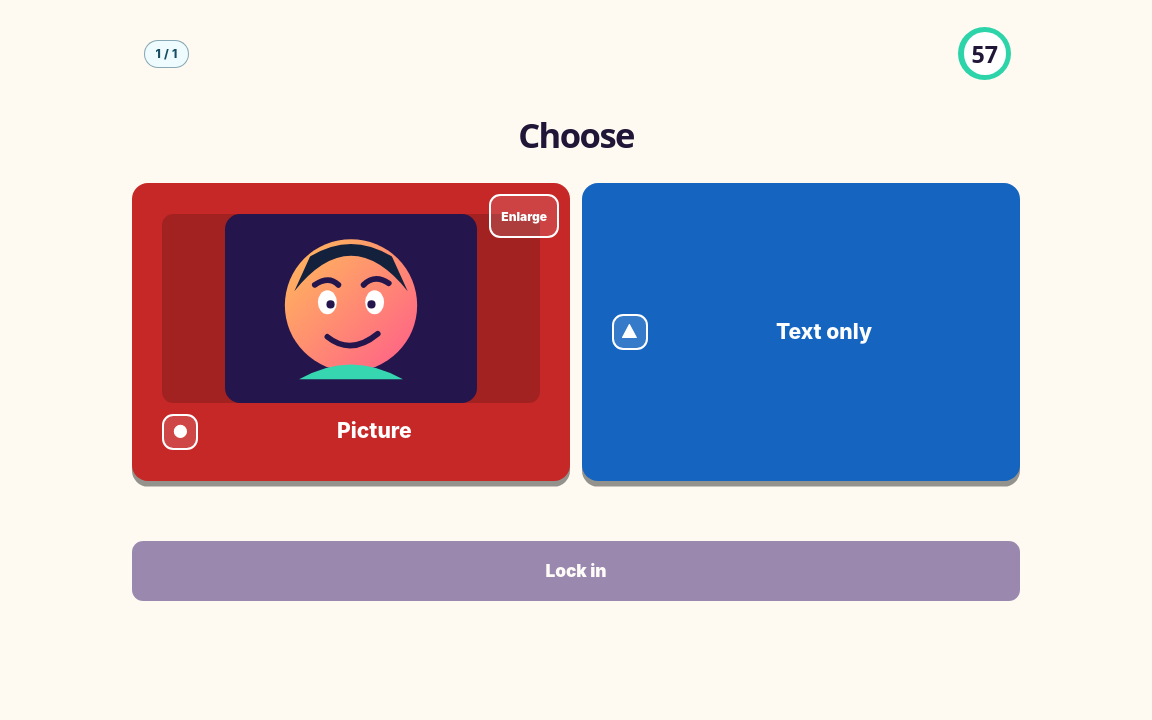
Scenario: PlayerQuestion image choices › opens enlargement without selecting the answer and closes with Escape
The width and height of the screenshot is (1152, 720).
Click the button "Enlarge" at {"x": 524, "y": 216}, box [489,194,559,238]
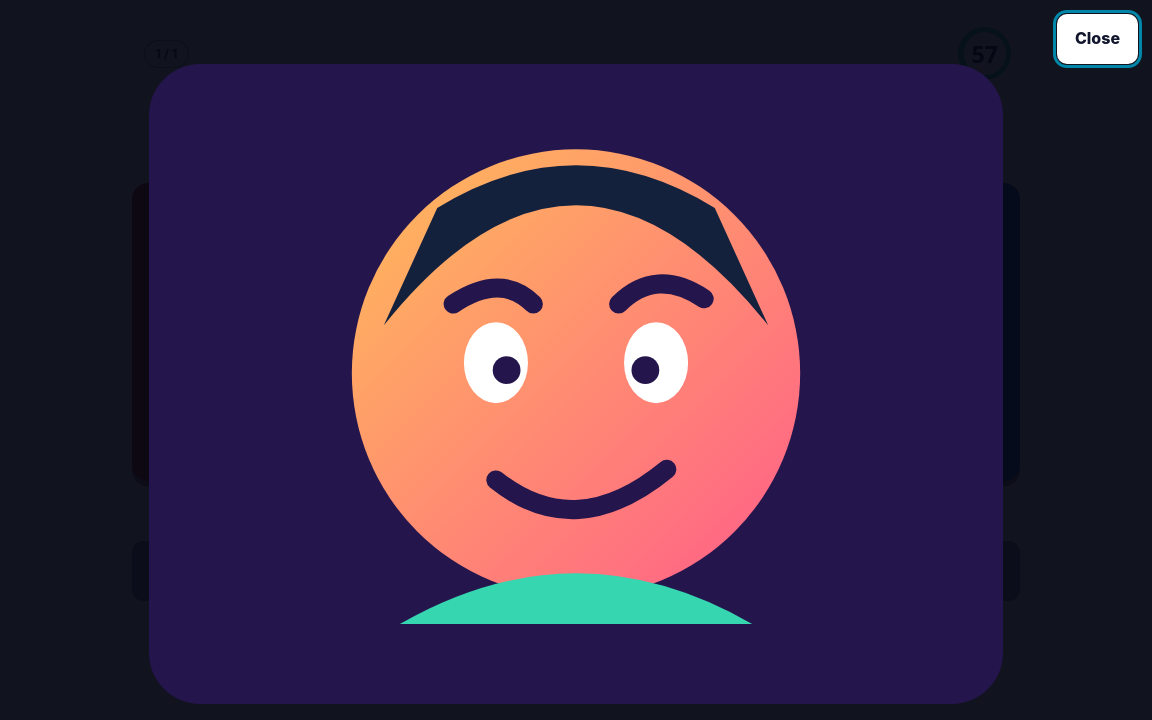
Expected: the dialog named "Enlarged question image" is shown
Press Escape
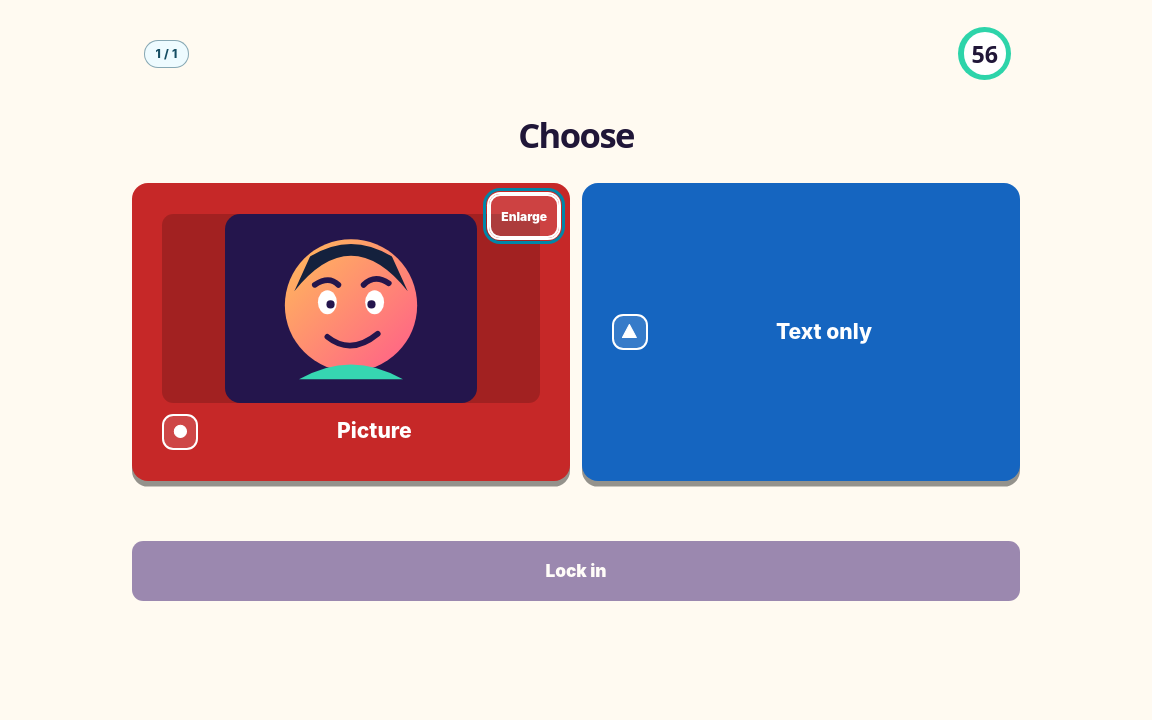
Expected: the dialog is gone
